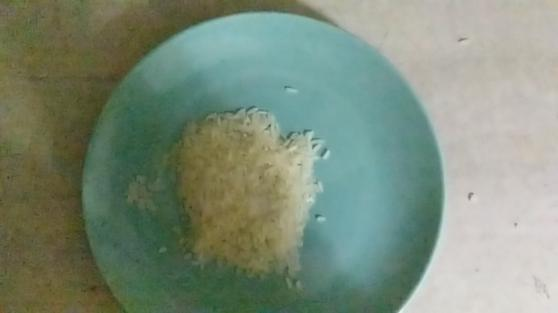rice: (152, 100, 344, 286)
